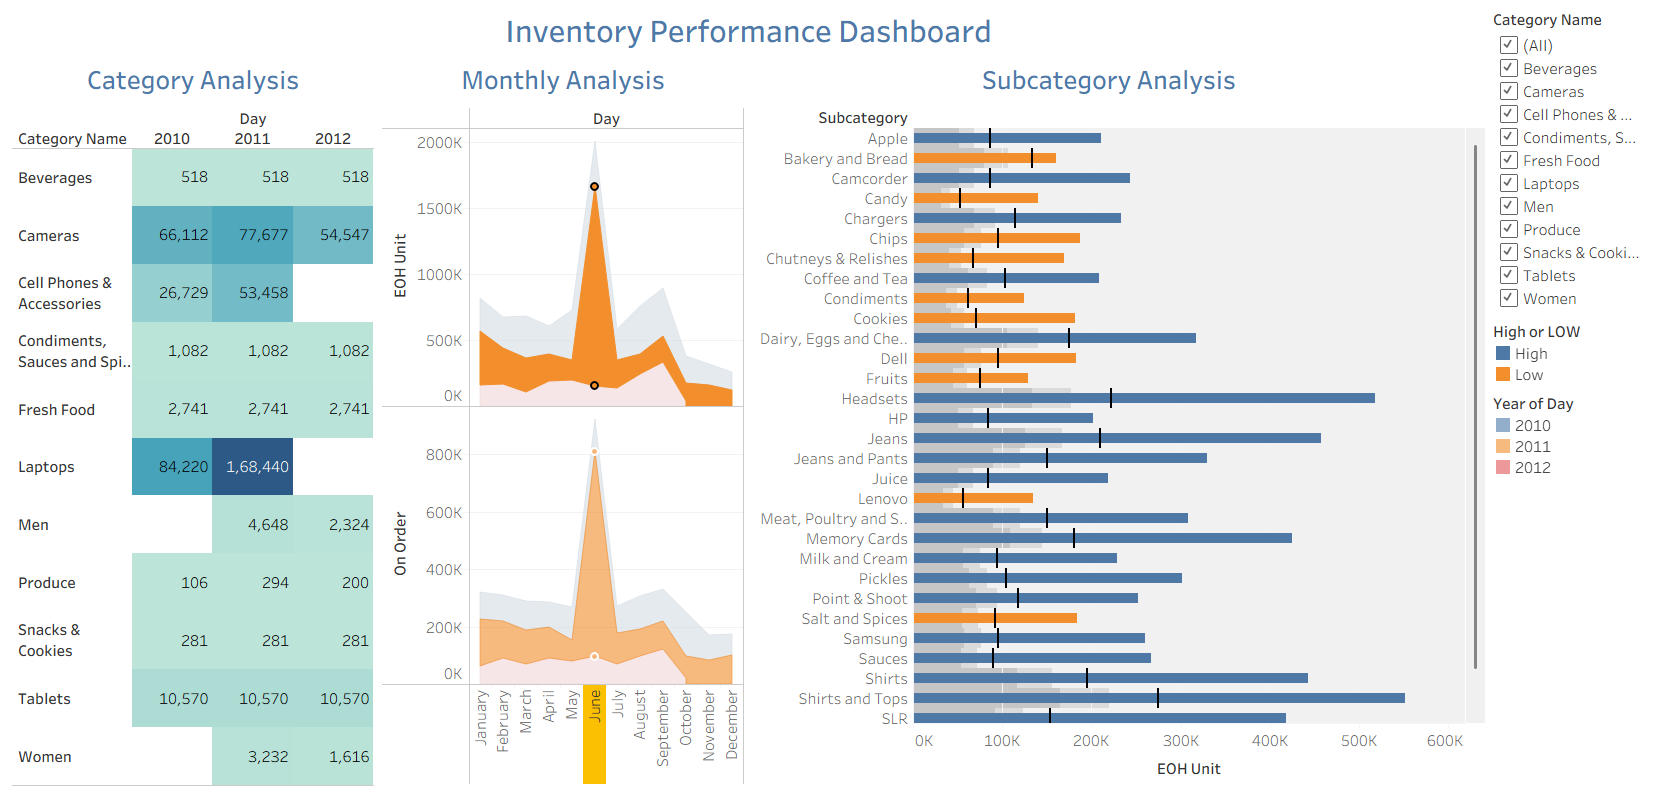

This screenshot's page, from the dashboard's own definition file:
{"tool":"tableau","page":{"name":"Inventory Performance Dashboard.","canvas":[1000,1000],"units":"permille","ordinal":0},"visuals":[{"type":"title","box":[4.8,10,893.8,61.2]},{"type":"filter","title":"Subcategory Analysis","param":"[federated.17znsco18b09b21bwg28c0uu71m9].[none:CATEGORY_NAME:nk]","box":[898.6,10,96.6,389.5]},{"type":"worksheet","title":"Category Analysis","mark":"Square","rows":["CATEGORY_NAME"],"cols":["Day"],"box":[4.8,71.2,223.4,918.8]},{"type":"worksheet","title":"Monthly Analysis","mark":"Area","rows":["EOH_Unit","On_Order"],"cols":["Day"],"box":[228.3,71.2,223.5,918.8]},{"type":"worksheet","title":"Subcategory Analysis","mark":"Automatic","rows":["SUBCATEGORY"],"cols":["EOH_Unit"],"box":[451.7,71.2,446.9,918.8]},{"type":"legend","title":"Subcategory Analysis","param":"[federated.17znsco18b09b21bwg28c0uu71m9].[usr:Calculation_1772729424406007812:nk","box":[898.6,399.5,96.6,89.9]},{"type":"legend","title":"Monthly Analysis","param":"[federated.17znsco18b09b21bwg28c0uu71m9].[yr:Day:ok]","box":[898.6,489.4,96.6,116.1]}]}

Visuals, with their boxes on the dashboard's canvas, which has no fixed pixel size, in thousandths of its width and height (x1, y1, x2, y2). These are canvas units, not pixel positions in the 1653x798 screenshot, which may show the page scaled, cropped or inside an application window:
title: left=5, top=10, right=899, bottom=71
"Subcategory Analysis" filter: left=899, top=10, right=995, bottom=400
"Category Analysis" worksheet (Square marks): left=5, top=71, right=228, bottom=990
"Monthly Analysis" worksheet (Area marks): left=228, top=71, right=452, bottom=990
"Subcategory Analysis" worksheet: left=452, top=71, right=899, bottom=990
"Subcategory Analysis" legend: left=899, top=400, right=995, bottom=489
"Monthly Analysis" legend: left=899, top=489, right=995, bottom=606
